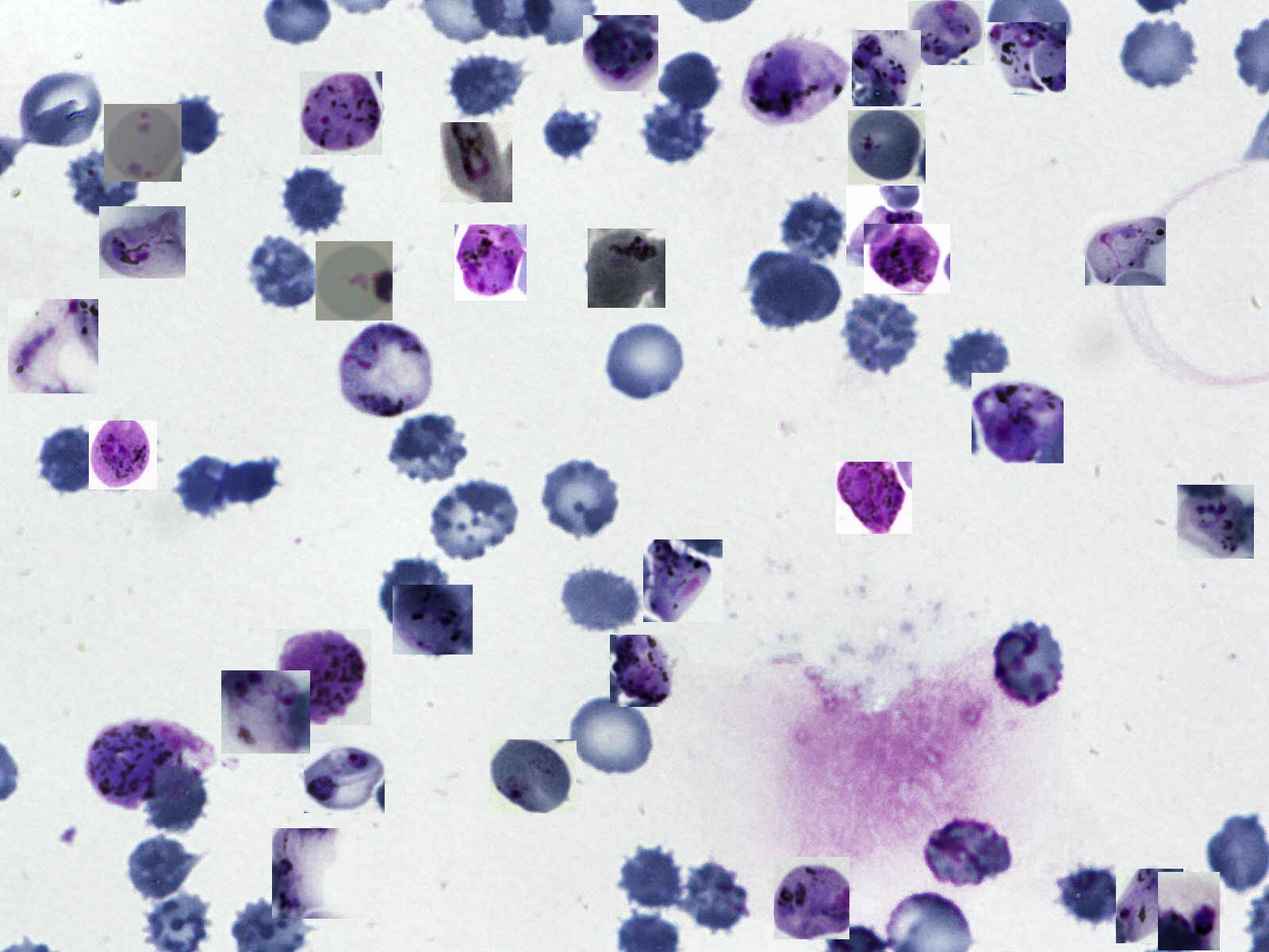Infected: (85, 716, 210, 807), (339, 319, 436, 423), (742, 36, 848, 126), (275, 629, 371, 725), (8, 299, 98, 393), (972, 373, 1064, 463), (272, 828, 356, 919), (221, 670, 310, 754), (301, 71, 383, 155), (644, 539, 723, 622), (489, 739, 577, 813), (99, 206, 186, 278), (316, 241, 393, 321), (588, 229, 665, 309), (846, 186, 922, 267), (774, 857, 849, 939), (104, 104, 182, 182), (864, 224, 950, 294), (1085, 213, 1166, 286), (985, 22, 1066, 94), (848, 110, 926, 184), (440, 122, 512, 202), (583, 15, 658, 91), (1177, 485, 1254, 559), (304, 743, 385, 813), (610, 635, 688, 707), (393, 585, 473, 655), (454, 225, 527, 301), (836, 462, 912, 534), (852, 30, 921, 106), (1116, 869, 1183, 943), (908, 1, 984, 65), (1158, 872, 1220, 950), (89, 420, 157, 489)
Uninfected: (17, 65, 106, 153), (430, 479, 523, 563), (568, 694, 658, 780), (989, 617, 1071, 711), (539, 455, 625, 540), (923, 812, 1014, 892), (838, 294, 924, 377), (750, 254, 841, 329), (603, 321, 688, 401), (447, 45, 530, 120), (558, 563, 642, 636), (243, 233, 319, 310), (375, 555, 450, 633), (385, 413, 471, 481), (941, 322, 1015, 397), (1119, 17, 1198, 87), (153, 93, 227, 164), (683, 860, 752, 935), (778, 190, 848, 261), (275, 163, 346, 233), (620, 845, 690, 915), (67, 150, 141, 215), (126, 834, 198, 900), (643, 94, 711, 163), (35, 426, 105, 493), (144, 764, 209, 833), (1055, 865, 1127, 923), (174, 455, 236, 520), (657, 51, 719, 114), (542, 106, 602, 163), (221, 452, 283, 507)
